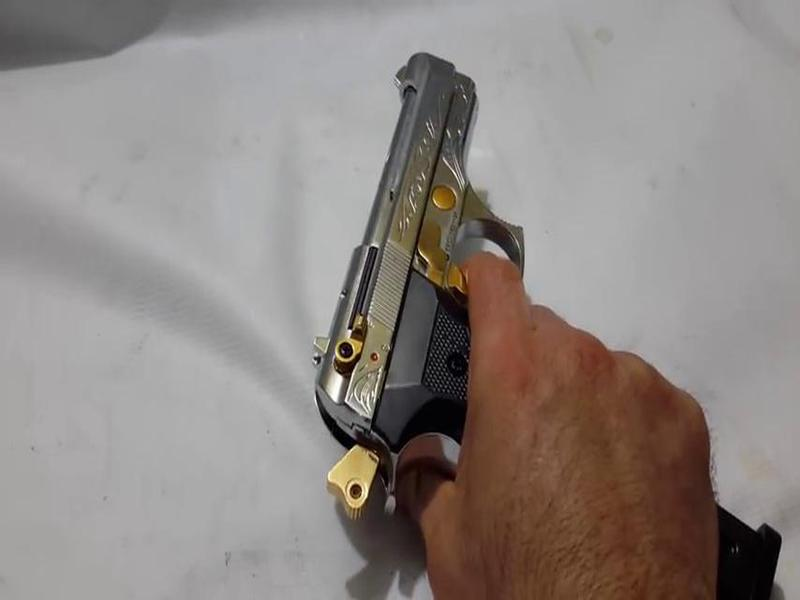Pistola: (295, 44, 583, 526)
